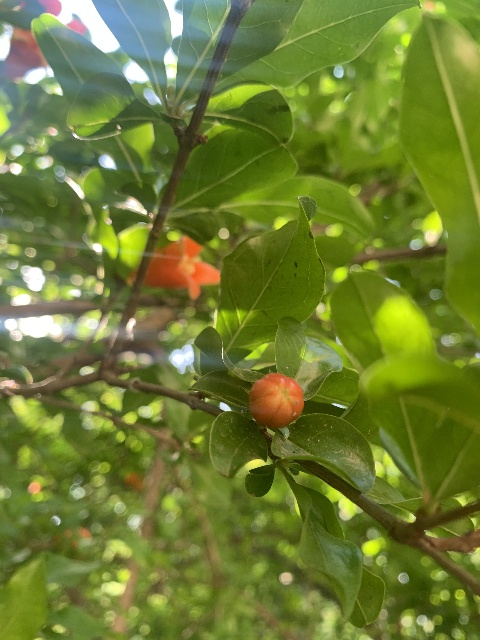bud: (249, 372, 304, 428)
flower: (7, 0, 91, 79), (129, 234, 220, 300)
